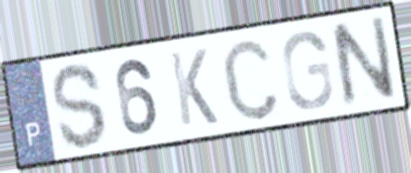6: (113, 56, 161, 139)
C: (218, 35, 283, 124)
G: (279, 28, 336, 112)
K: (166, 46, 221, 129)
N: (326, 12, 400, 112)
S: (49, 60, 111, 153)
